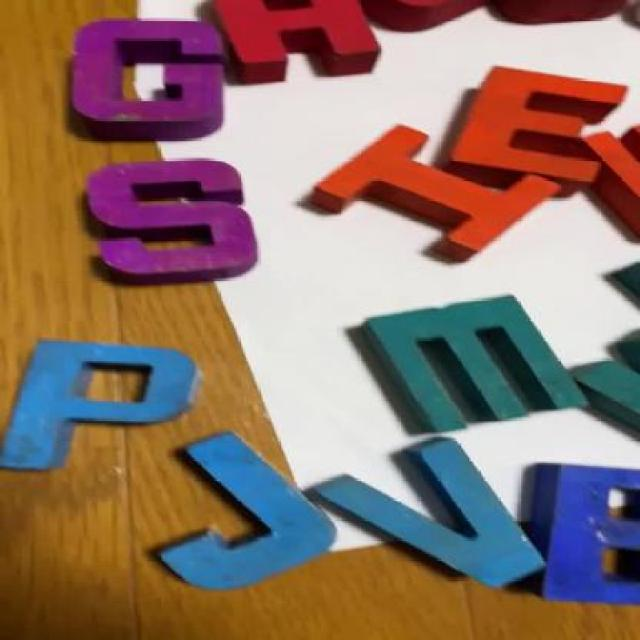E: (439, 69, 613, 185)
G: (72, 17, 235, 132)
I: (321, 132, 553, 254)
J: (144, 430, 324, 587)
M: (366, 302, 583, 423)
P: (16, 337, 199, 461)
S: (77, 154, 263, 288)
V: (323, 440, 545, 594)
